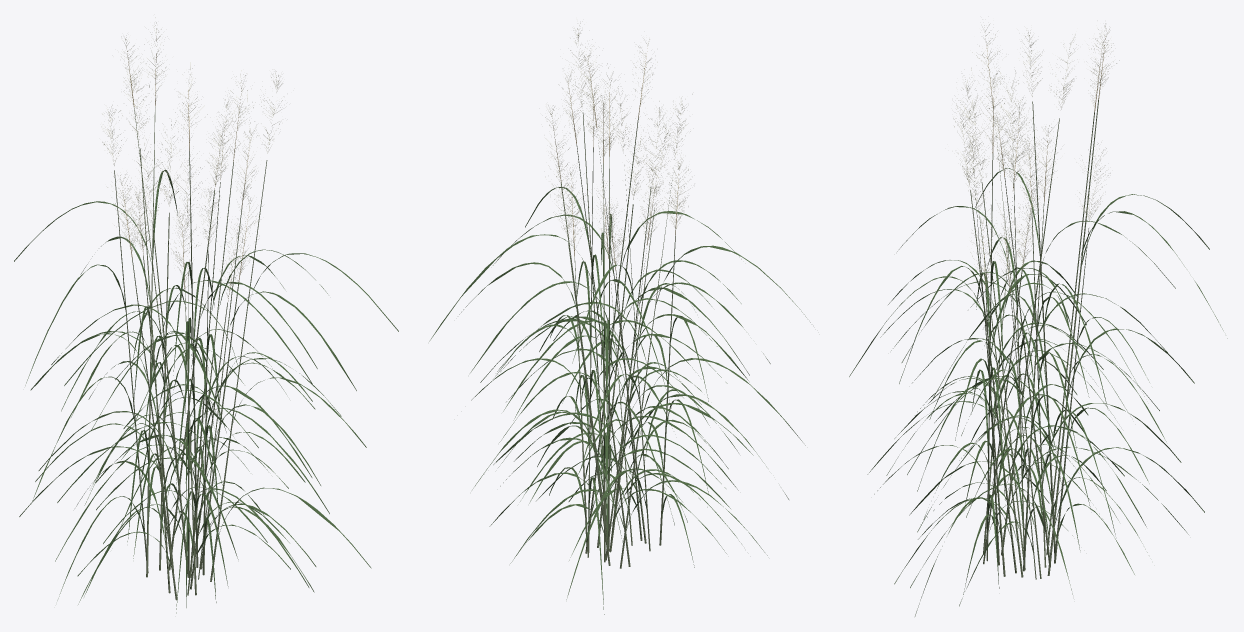
File: saccharum-4-lite.glb
The picture shows the model from 3 angles, left to right: view 1: azimuth 30°, elevation 25°; view 2: azimuth 150°, elevation 25°; view 3: azimuth 270°, elevation 25°; orthographic projection. The views are drawn at different scales.
Visible parts, largest first — view 1: grass-leaf, stem, panicle, silky-hairs, rachis; view 2: grass-leaf, stem, panicle, silky-hairs, rachis; view 3: grass-leaf, stem, panicle, silky-hairs, rachis.
Part boxes in pixels (<box>): grass-leaf: <box>14,169,398,613</box>; stem: <box>114,106,267,600</box>; panicle: <box>102,22,282,298</box>; silky-hairs: <box>101,17,282,294</box>; rachis: <box>122,38,250,301</box>; grass-leaf: <box>429,187,810,614</box>; stem: <box>561,112,675,568</box>; panicle: <box>545,25,686,266</box>; silky-hairs: <box>545,21,692,262</box>; rachis: <box>551,48,678,271</box>; grass-leaf: <box>849,168,1227,616</box>; stem: <box>970,99,1098,579</box>; panicle: <box>954,23,1113,289</box>; silky-hairs: <box>953,24,1119,280</box>; rachis: <box>982,36,1105,293</box>.
Bounding box in the file's own units: 1.46 × 2.19 × 1.37.
Materials: 4 (2 with a texture image).
